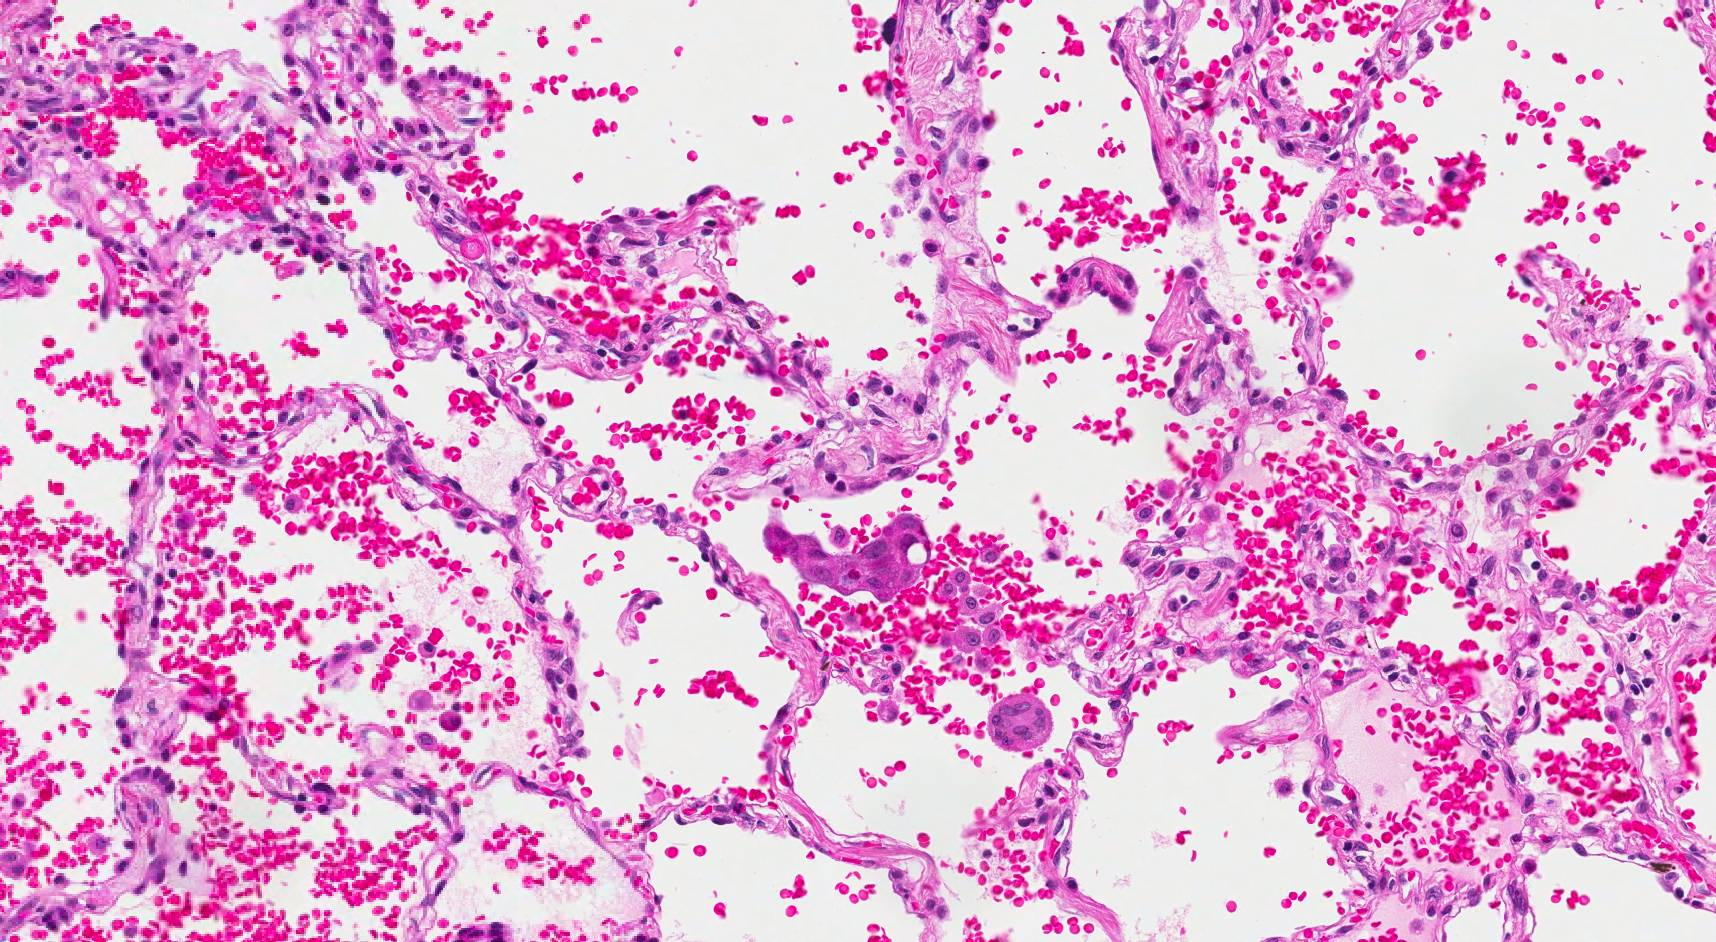stas: (763, 513, 934, 602)
